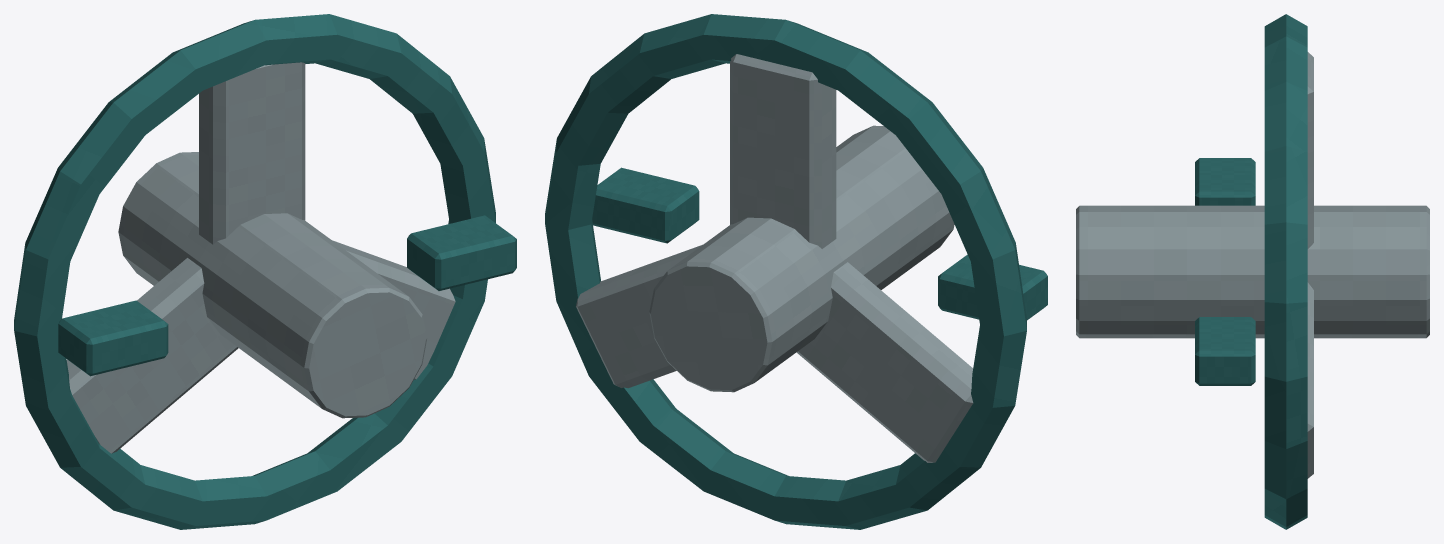
The model's file is propeller-lod-1.glb.
The picture shows the model from 3 angles, left to right: view 1: azimuth 30°, elevation 25°; view 2: azimuth 150°, elevation 25°; view 3: azimuth 270°, elevation 25°; orthographic projection. The views are drawn at different scales.
Parts seen in each view (by area): view 1: propeller_lod_1; view 2: propeller_lod_1; view 3: propeller_lod_1.
Part boxes in pixels (left/top/right/bottom): propeller_lod_1: left=14, top=14, right=516, bottom=529; propeller_lod_1: left=545, top=14, right=1047, bottom=529; propeller_lod_1: left=1076, top=14, right=1429, bottom=529.
Size of the model in its own units: 0.94 by 0.94 by 0.64.
Materials: 1 (1 with a texture image).
